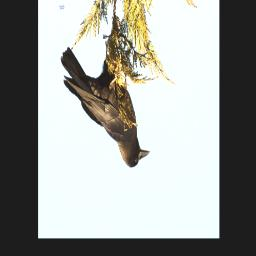Crow: (61, 41, 152, 172)
